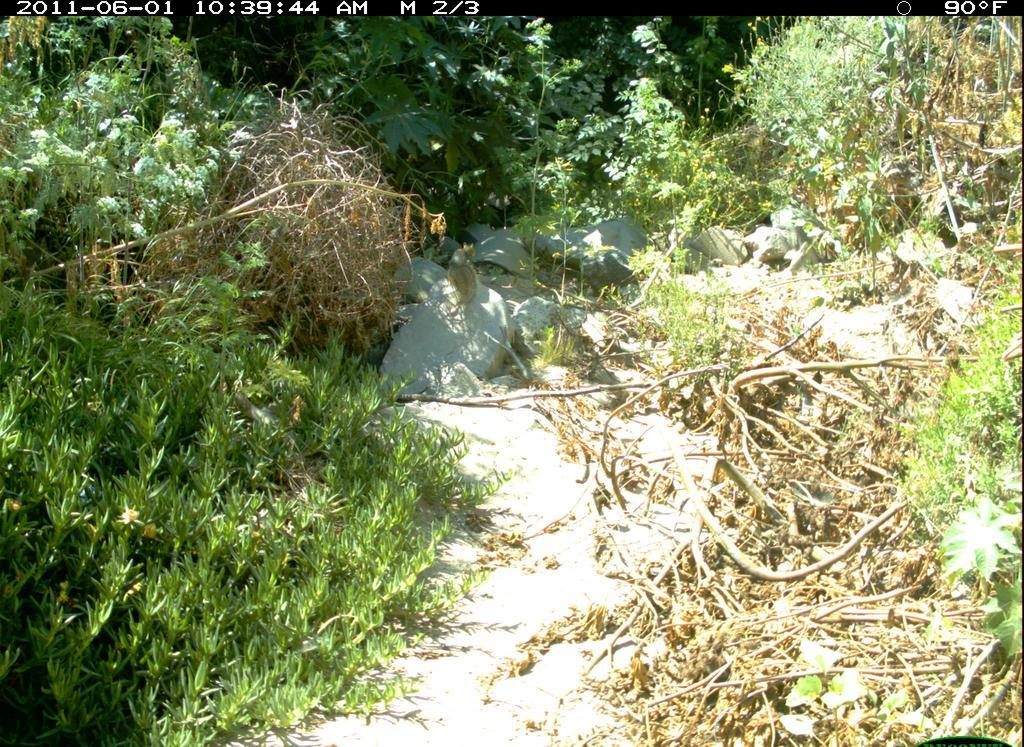squirrel: (439, 236, 495, 316)
